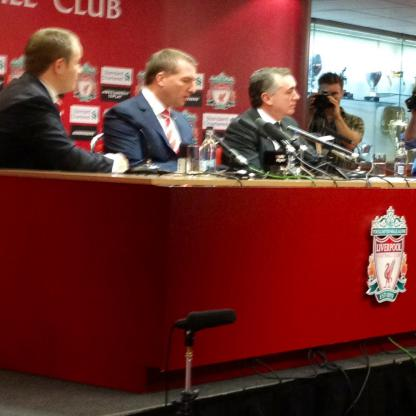face: (165, 59, 197, 110), (55, 45, 84, 93), (270, 76, 300, 116), (320, 84, 341, 110)
